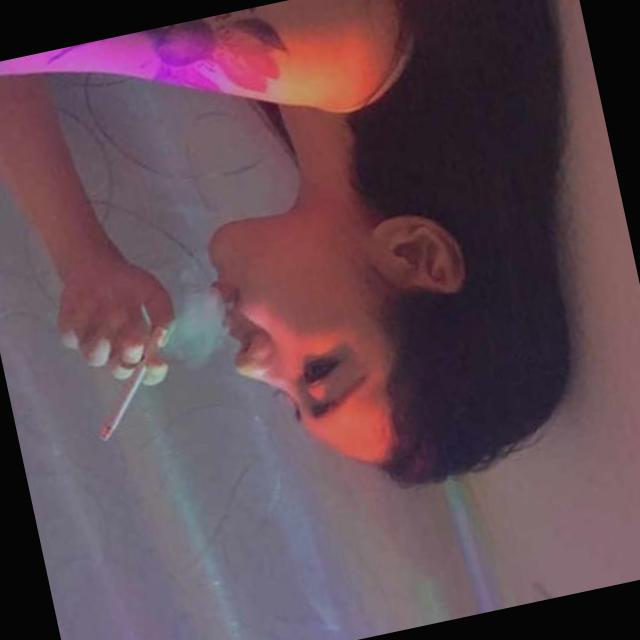cigarette: (86, 361, 161, 444)
